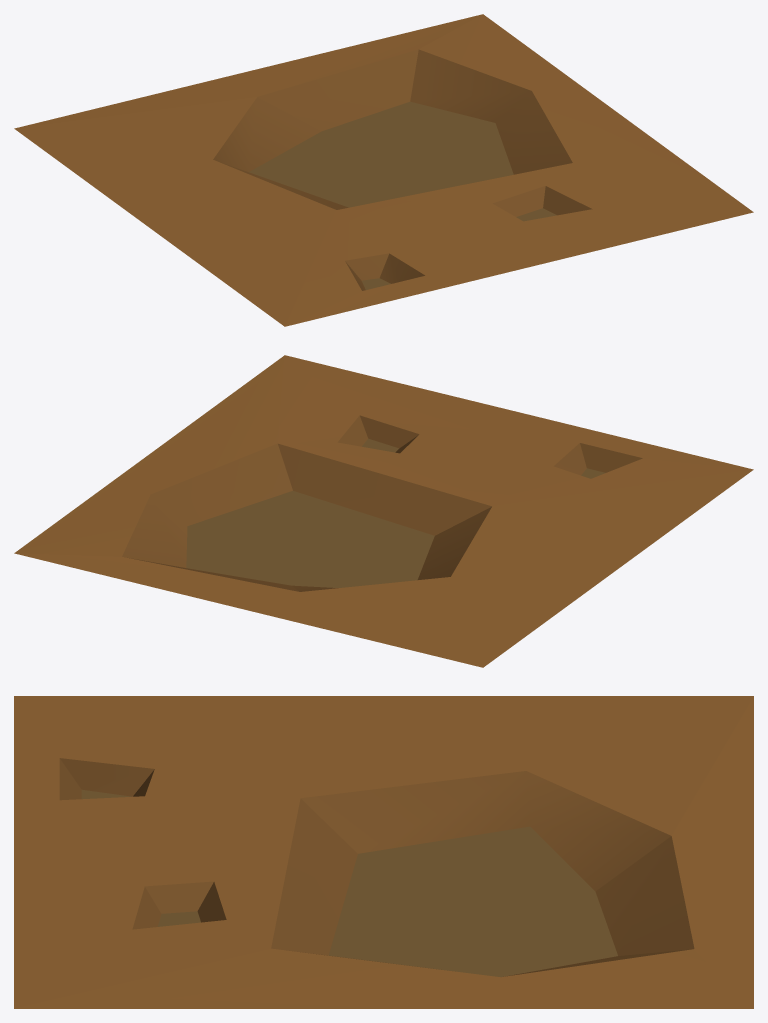
Rendered from SA_Env_Dirt_03.gltf.
The picture shows the model from 3 angles, top to bottom: view 1: azimuth 30°, elevation 25°; view 2: azimuth 150°, elevation 25°; view 3: azimuth 270°, elevation 25°; orthographic projection. The views are drawn at different scales.
Visible parts, largest first — view 1: SA_Env_Dirt_03; view 2: SA_Env_Dirt_03; view 3: SA_Env_Dirt_03.
Boxes of the visible parts, x1=… form: SA_Env_Dirt_03: x1=14, y1=14, x2=753, y2=326; SA_Env_Dirt_03: x1=14, y1=355, x2=753, y2=667; SA_Env_Dirt_03: x1=14, y1=696, x2=753, y2=1008.
Bounding box in the file's own units: 15 × 0.7004 × 15.
1 material, 1 textured.
